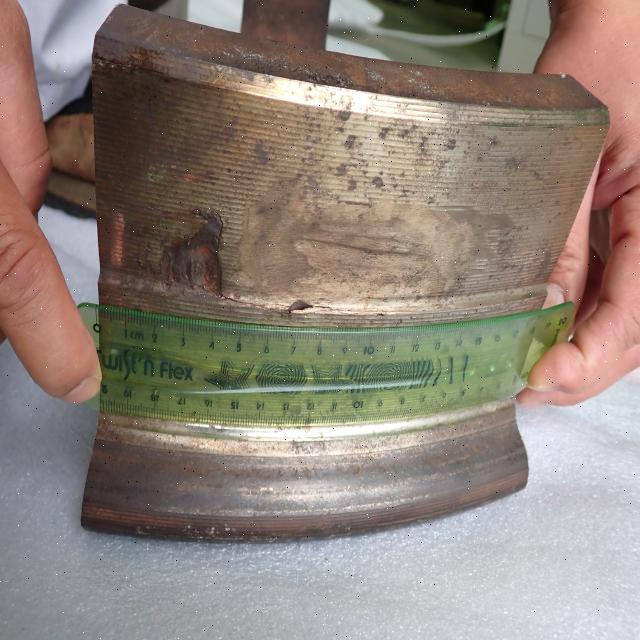boli: (148, 210, 242, 308)
